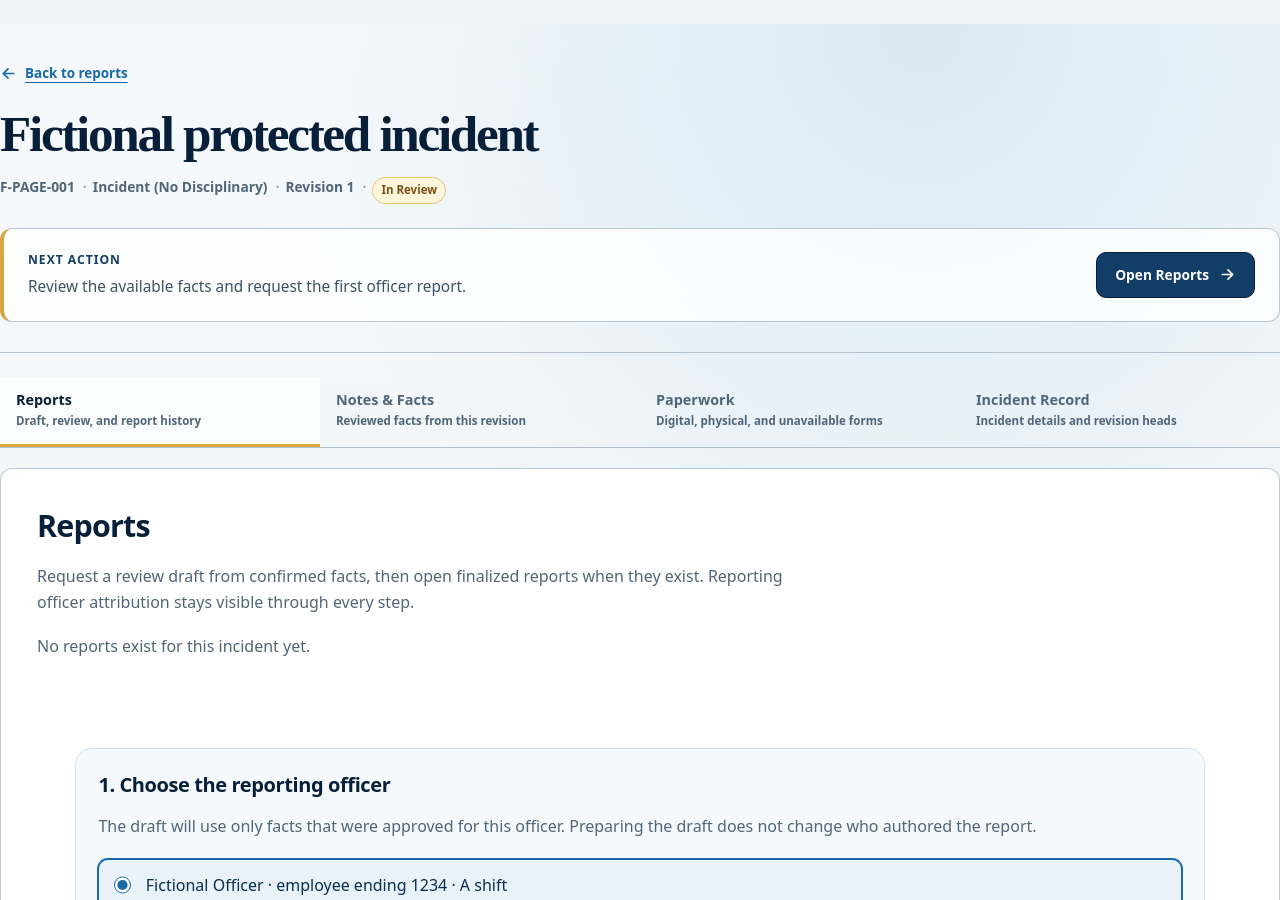
it: DocumentStudio › shows incident-only facts separately in Notes & Facts
What coordinates should you click on to do the following:
click the tab "Notes & Facts Reviewed facts from this revision"
I would click on:
 (480, 412)
Its box is [320,377,640,447].
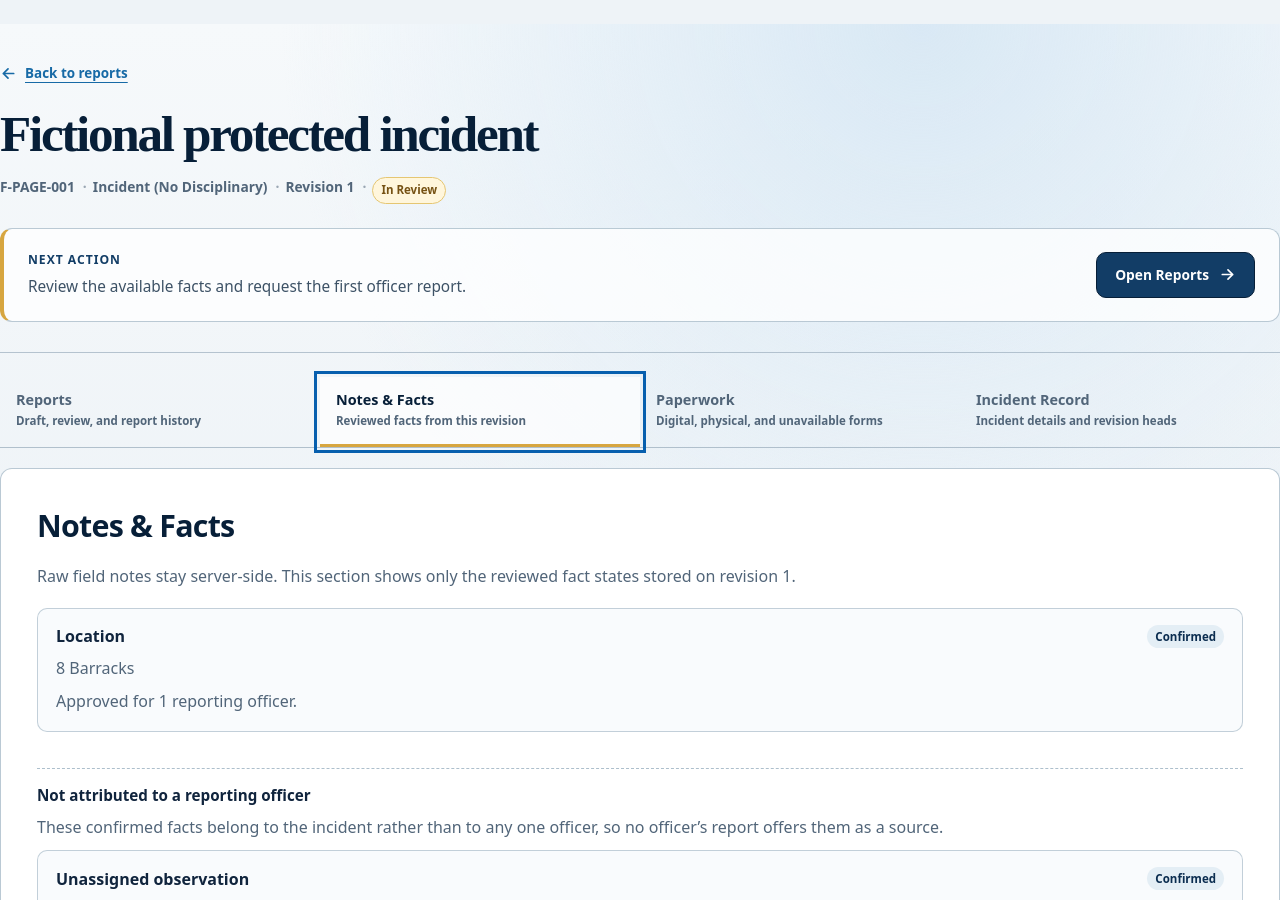
Now the text "Location" is shown, box [56,625,125,647]
Now the text "Unassigned observation" is shown, box [56,868,249,890]
What coordinates should you click on to do the following:
click the tab "Incident Record Incident details and revision heads"
I would click on:
 (1120, 412)
Its box is [960,377,1279,447].
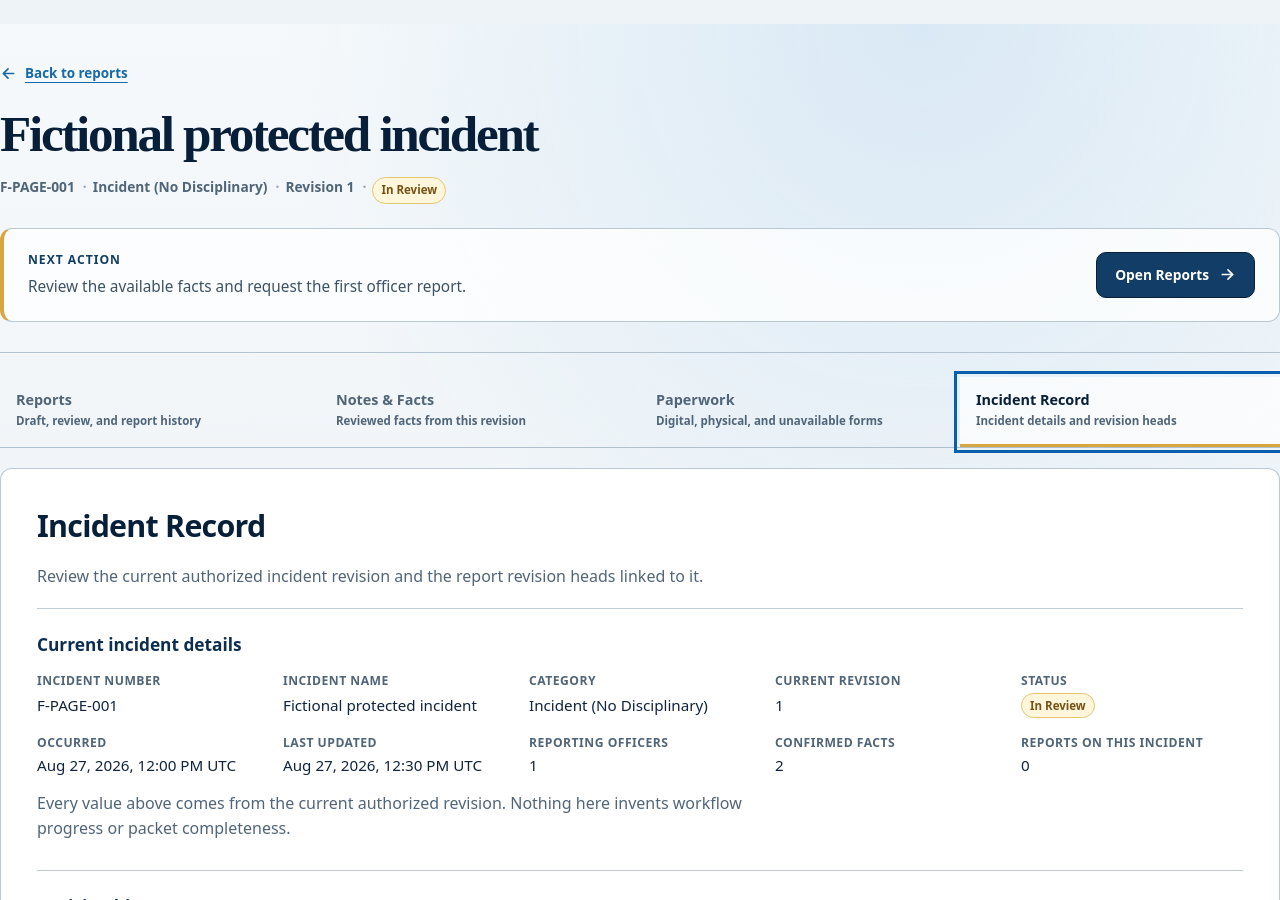
Now the text "2" is shown, box [775,755,784,775]
